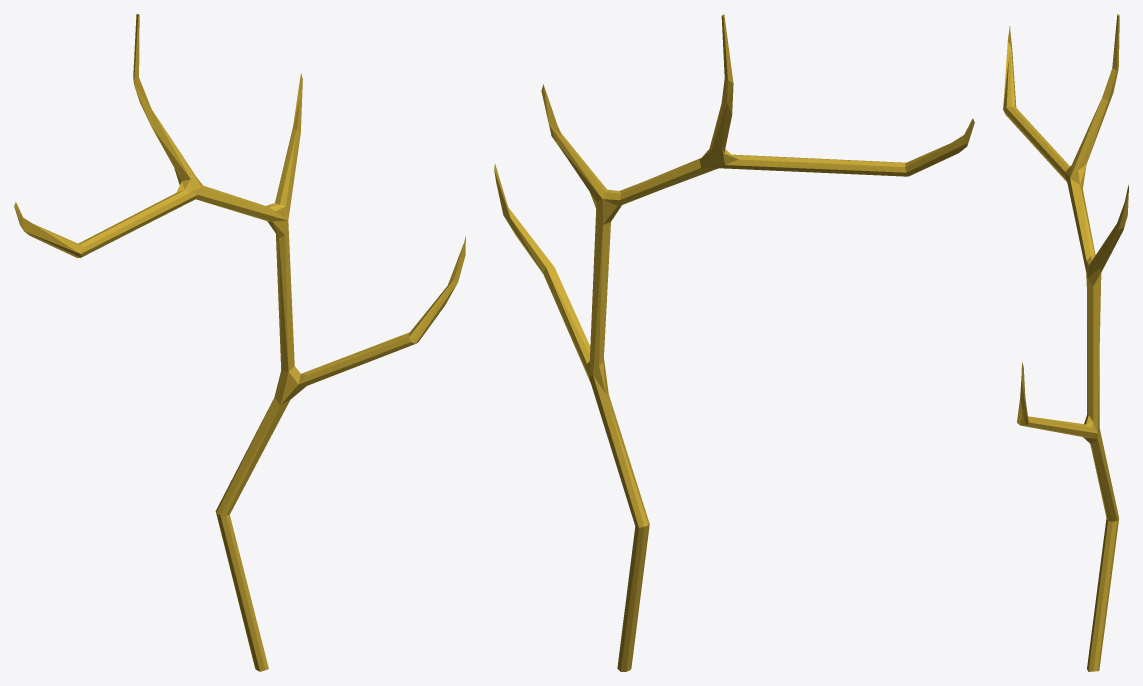
File: Tree_1_Dead.obj
3 renders of one model, left to right at view 1: azimuth 30°, elevation 25°; view 2: azimuth 150°, elevation 25°; view 3: azimuth 270°, elevation 25°, orthographic. The views are drawn at different scales.
Visible parts, largest first — view 1: Tree_1_Dead_Cube.018; view 2: Tree_1_Dead_Cube.018; view 3: Tree_1_Dead_Cube.018.
Part boxes in pixels (left/top/right/bottom): Tree_1_Dead_Cube.018: left=14, top=14, right=465, bottom=671; Tree_1_Dead_Cube.018: left=494, top=14, right=974, bottom=671; Tree_1_Dead_Cube.018: left=1003, top=14, right=1128, bottom=671.
Size of the model in its own units: 4.18 by 5.85 by 1.1.
